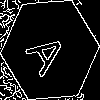A: (25, 25, 76, 79)
